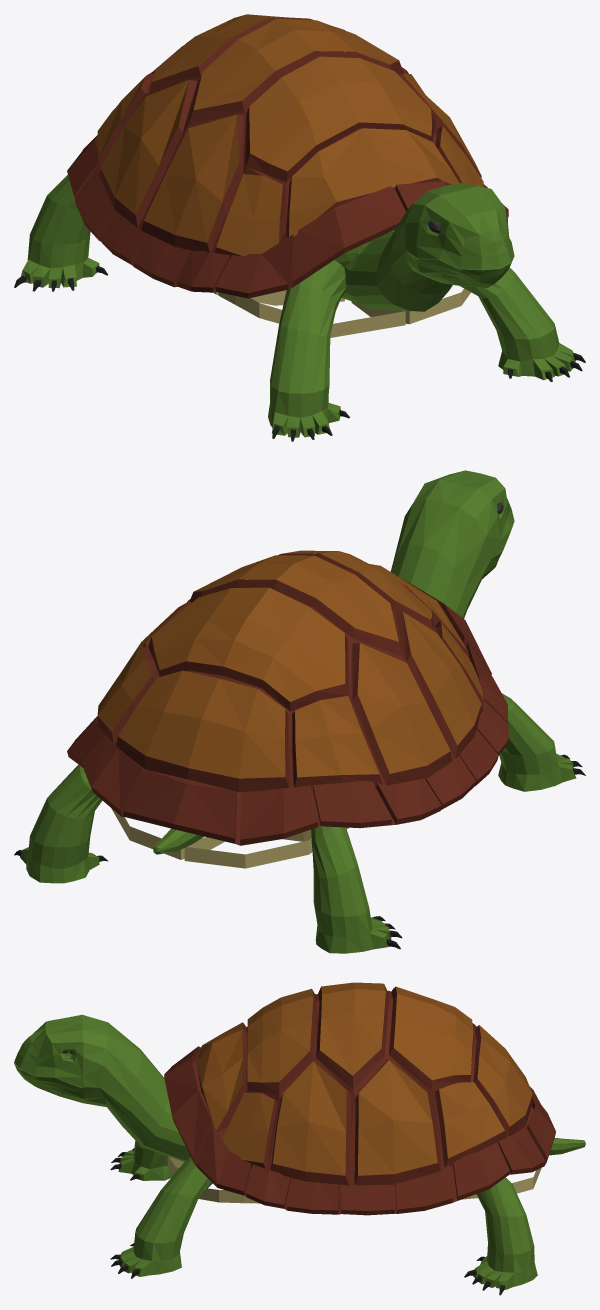
Rendered from turtle.glb.
3 views of the same model, one above another, from view 1: azimuth 30°, elevation 25°; view 2: azimuth 150°, elevation 25°; view 3: azimuth 270°, elevation 25° (orthographic). The views are drawn at different scales.
Visible parts, largest first — view 1: contract; view 2: contract; view 3: contract.
Boxes of the visible parts, <box> form: contract: <box>14,14,585,441</box>; contract: <box>14,470,585,953</box>; contract: <box>14,982,585,1295</box>.
Bounding box in the file's own units: 0.3891 × 0.2646 × 0.6.
